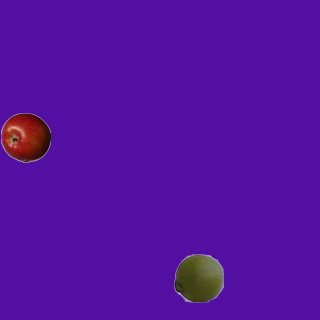Apple Braeburn: (0, 112, 50, 162)
Grape White 4: (173, 252, 223, 302)
